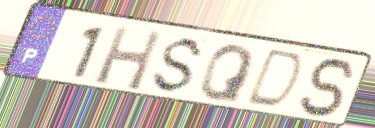1: (71, 25, 110, 79)
D: (241, 47, 307, 112)
H: (92, 24, 165, 94)
Q: (197, 43, 257, 105)
S: (298, 56, 360, 120), (148, 36, 208, 97)
